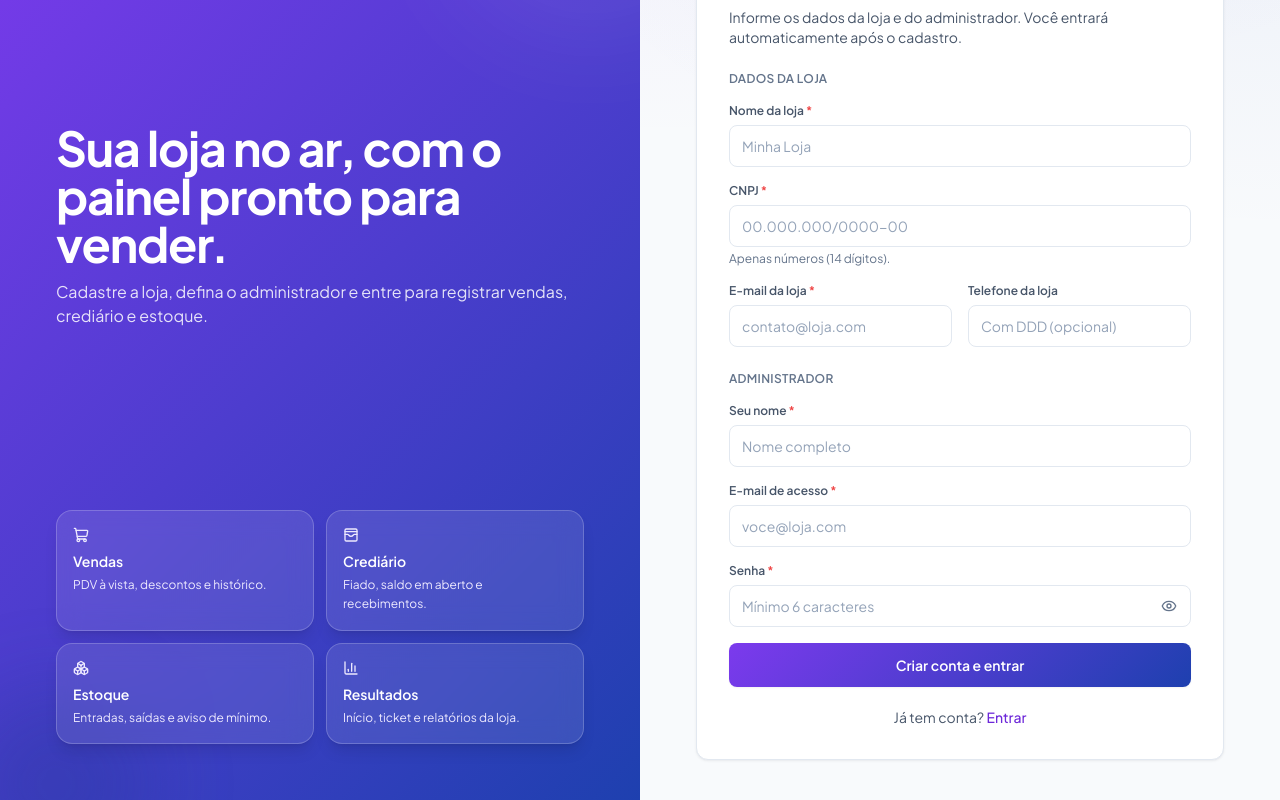
Test: RegisterPage › exige CNPJ com 14 digitos
(page scrolled)
Click the button "Criar conta e entrar".
click(960, 665)  # box [729, 643, 1191, 687]
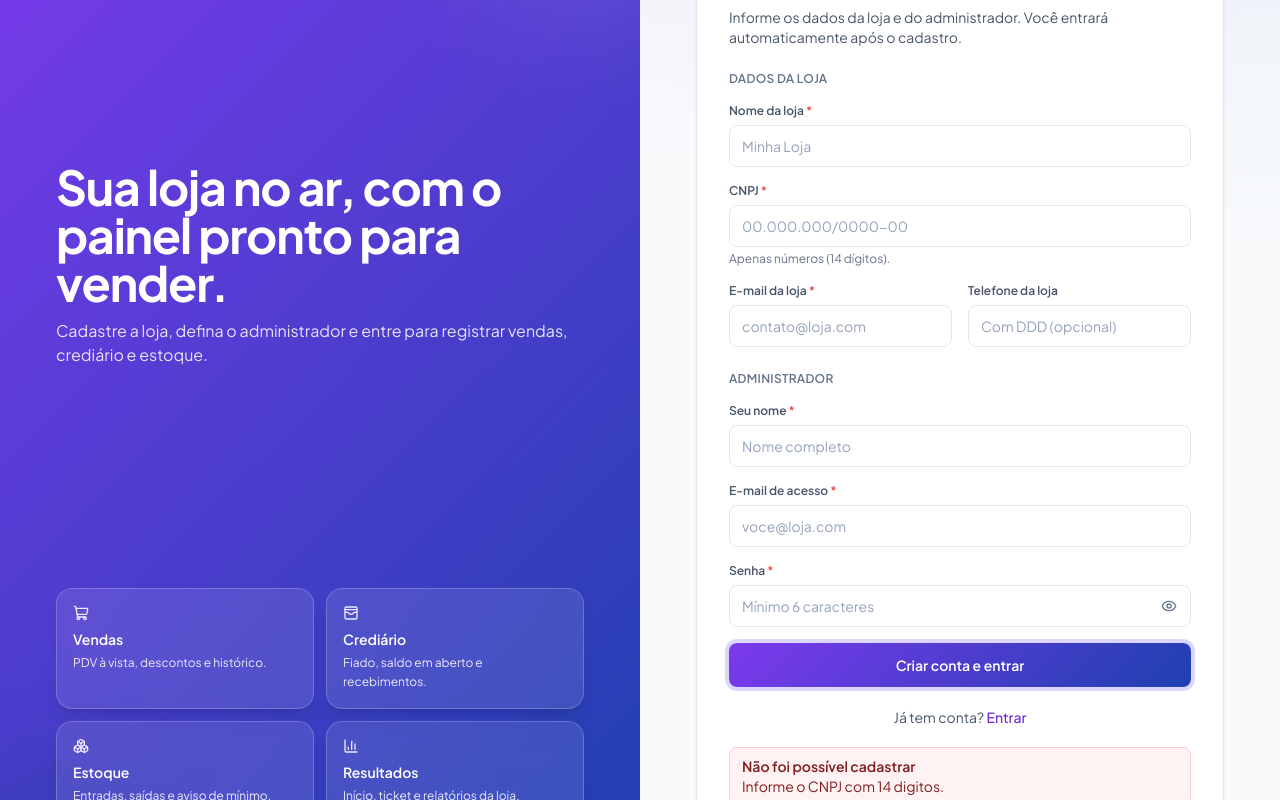
expect the text "Informe o CNPJ com 14 digitos." is shown: met, box [742, 777, 944, 795]
